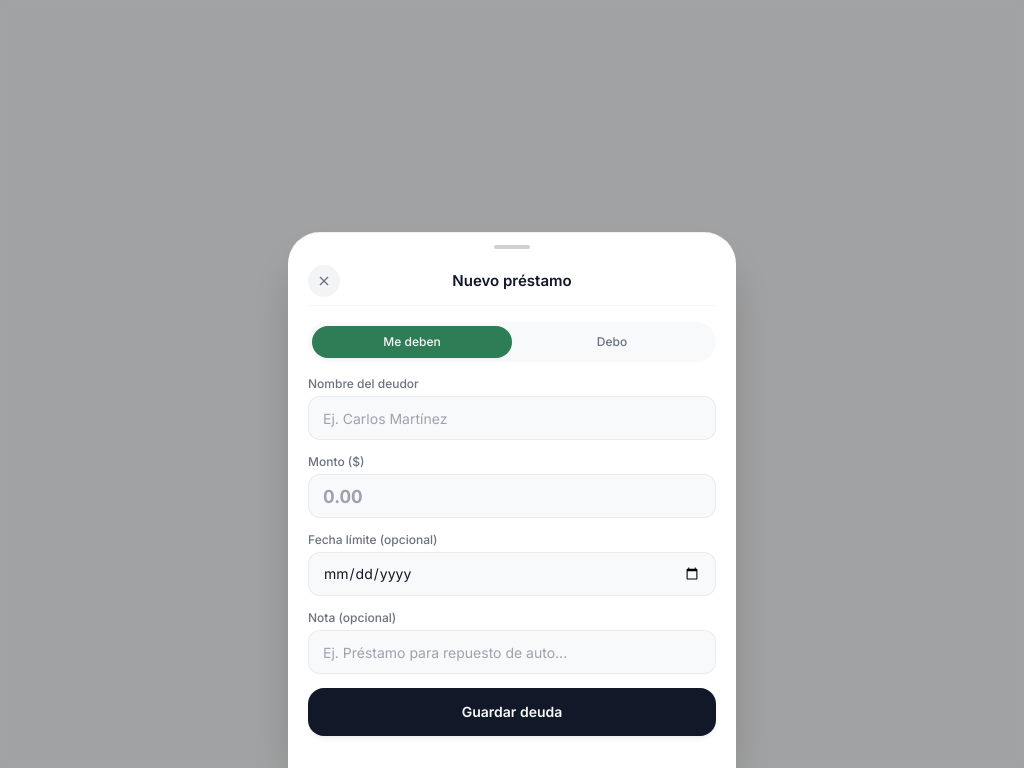
Test: DebtModal › valida el monto mayor a cero
Type "Carlos" into the field with placeholder "Ej. Carlos Martínez" at (512, 418), box x1=308 y1=396 x2=716 y2=440
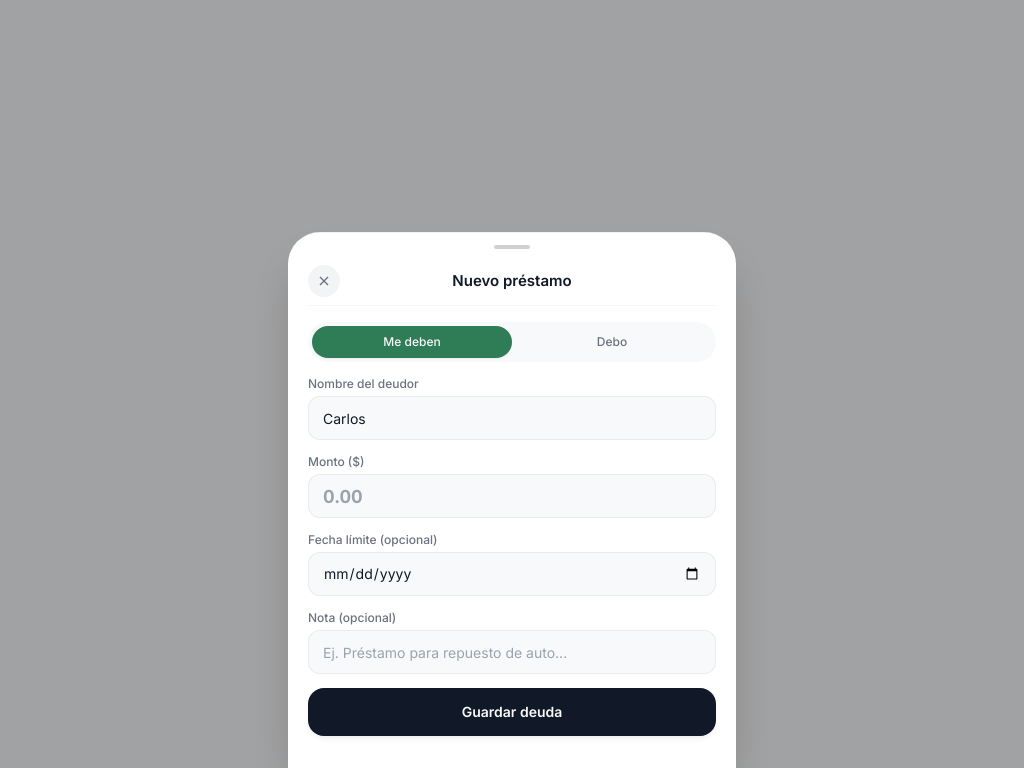
Submit the form named "Guardar deuda", box x1=308 y1=318 x2=716 y2=736
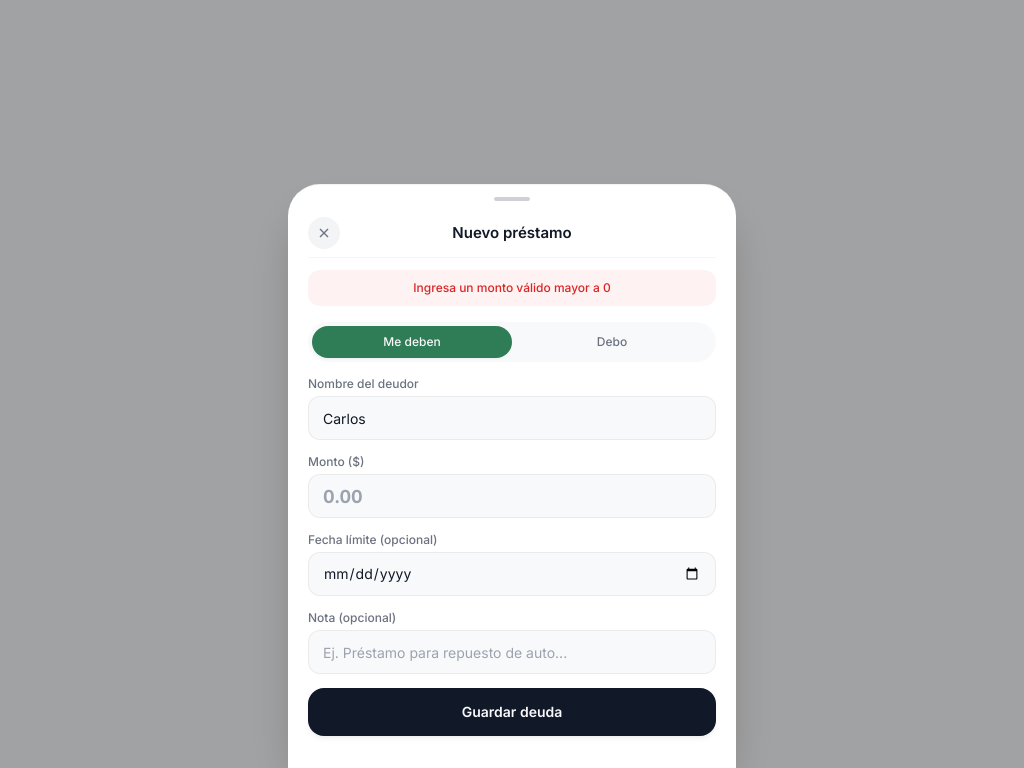
Now the text "Ingresa un monto válido mayor a 0" is shown, box x1=308 y1=270 x2=716 y2=306
